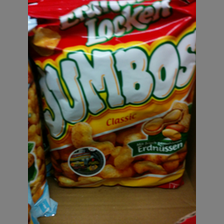chips: (31, 1, 196, 189)
